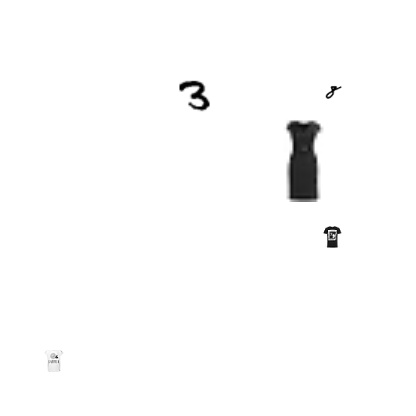7: (205, 27, 261, 83), (278, 55, 292, 69)
9: (40, 155, 62, 177)
Bag: (306, 270, 362, 326)
Coat: (331, 171, 359, 199)
T-shirt/top: (129, 222, 241, 334)
